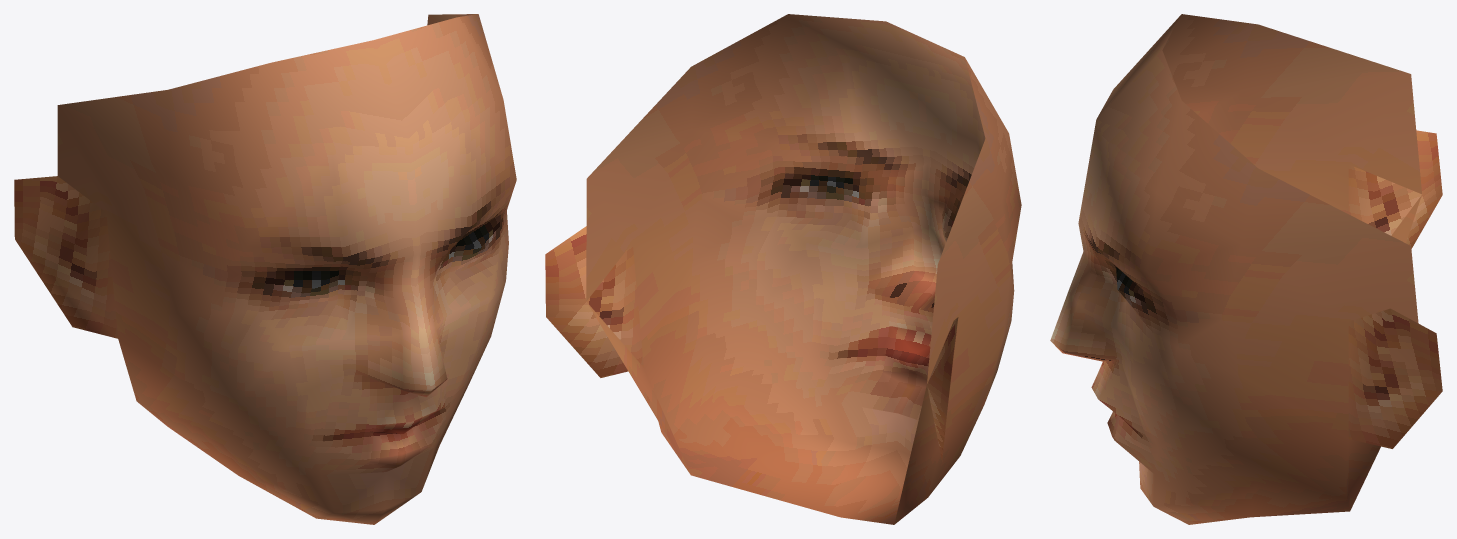
The picture shows the model from 3 angles, left to right: view 1: azimuth 30°, elevation 25°; view 2: azimuth 150°, elevation 25°; view 3: azimuth 270°, elevation 25°; orthographic projection. The views are drawn at different scales.
Visible parts, largest first — view 1: mesh00; view 2: mesh00; view 3: mesh00.
Boxes of the visible parts, x1,y1,x2,y2 form: mesh00: [14, 14, 516, 524]; mesh00: [545, 14, 1021, 524]; mesh00: [1050, 14, 1442, 524].
Size of the model in its own units: 17.18 by 18.68 by 14.26.
